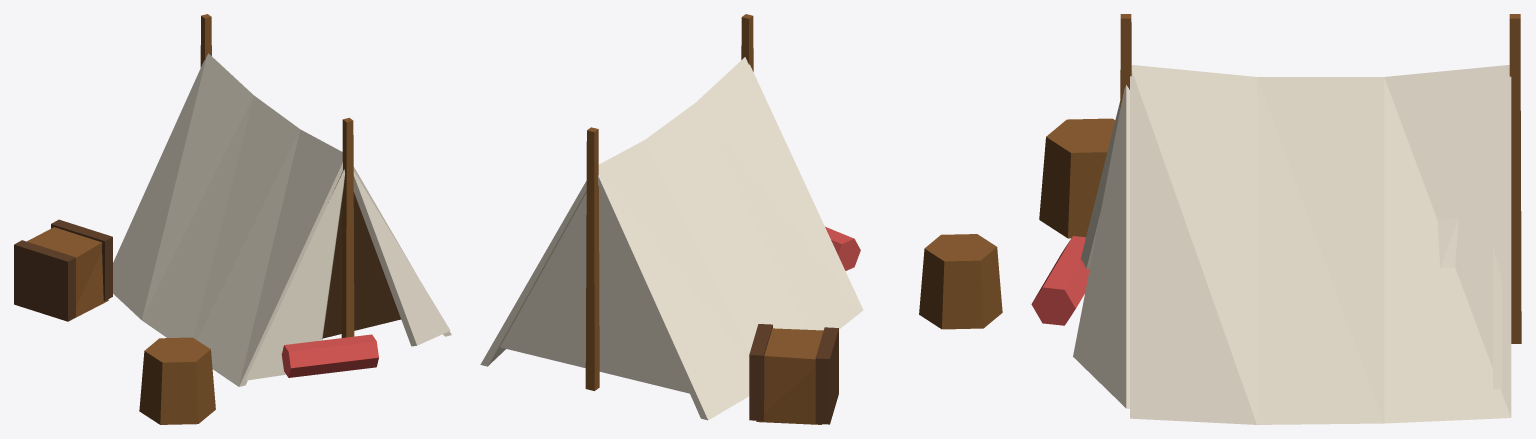
File: tent_a.glb
The picture shows the model from 3 angles, left to right: view 1: azimuth 30°, elevation 25°; view 2: azimuth 150°, elevation 25°; view 3: azimuth 270°, elevation 25°; orthographic projection. The views are drawn at different scales.
Parts seen in each view (by area): view 1: tent_a; view 2: tent_a; view 3: tent_a.
Part boxes in pixels (bbox=[...]): tent_a: bbox=[14, 14, 451, 424]; tent_a: bbox=[480, 14, 1002, 424]; tent_a: bbox=[1031, 14, 1521, 424].
Bounding box in the file's own units: 0.68 × 0.48 × 0.6426.
